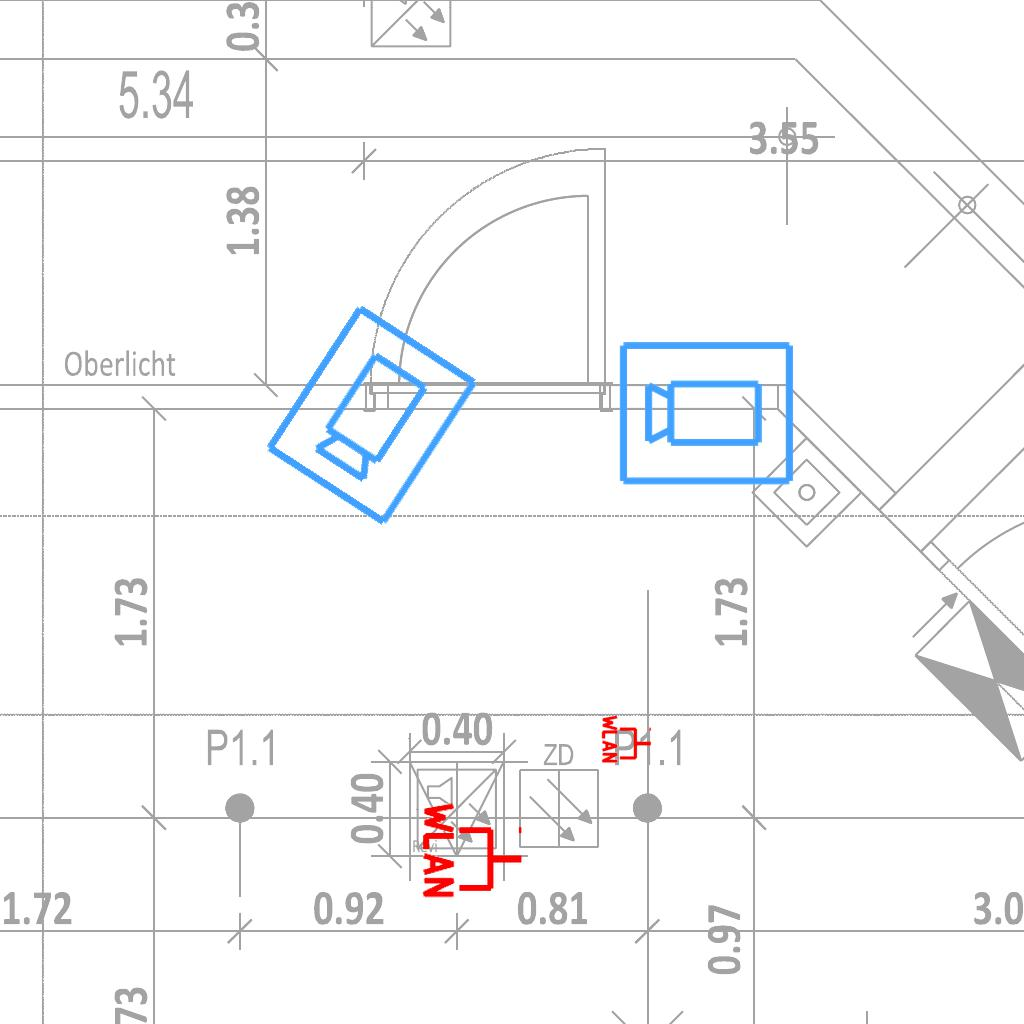KFO_Kamera_mit_Festobjektiv: (256, 295, 486, 533), (616, 335, 798, 489)
WLAN: (421, 798, 526, 902), (601, 713, 653, 765)
